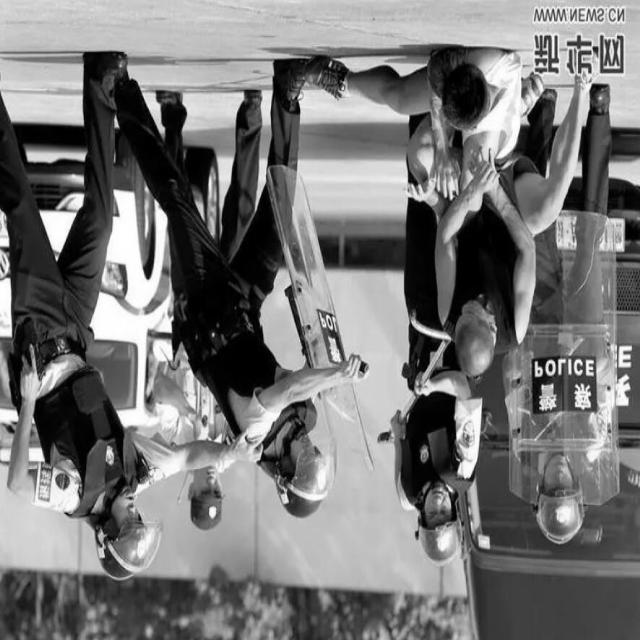fight: (415, 34, 598, 374)
nofight: (4, 44, 147, 576), (196, 25, 332, 506), (396, 312, 472, 565)
